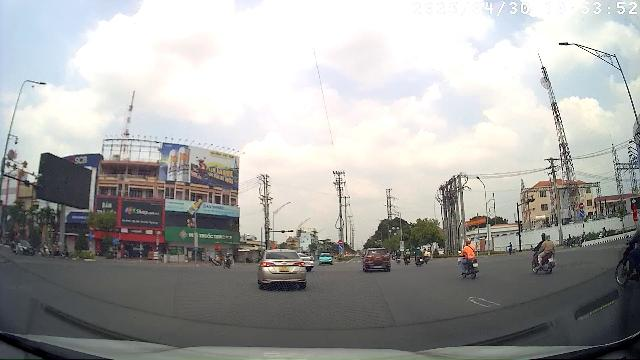102-cam-di-nguoc-chieu: (579, 202, 584, 209), (338, 240, 343, 244)
302a-huong-phai-di-vong-chuong-ngai-vat-1: (579, 210, 585, 217), (338, 245, 343, 249)
